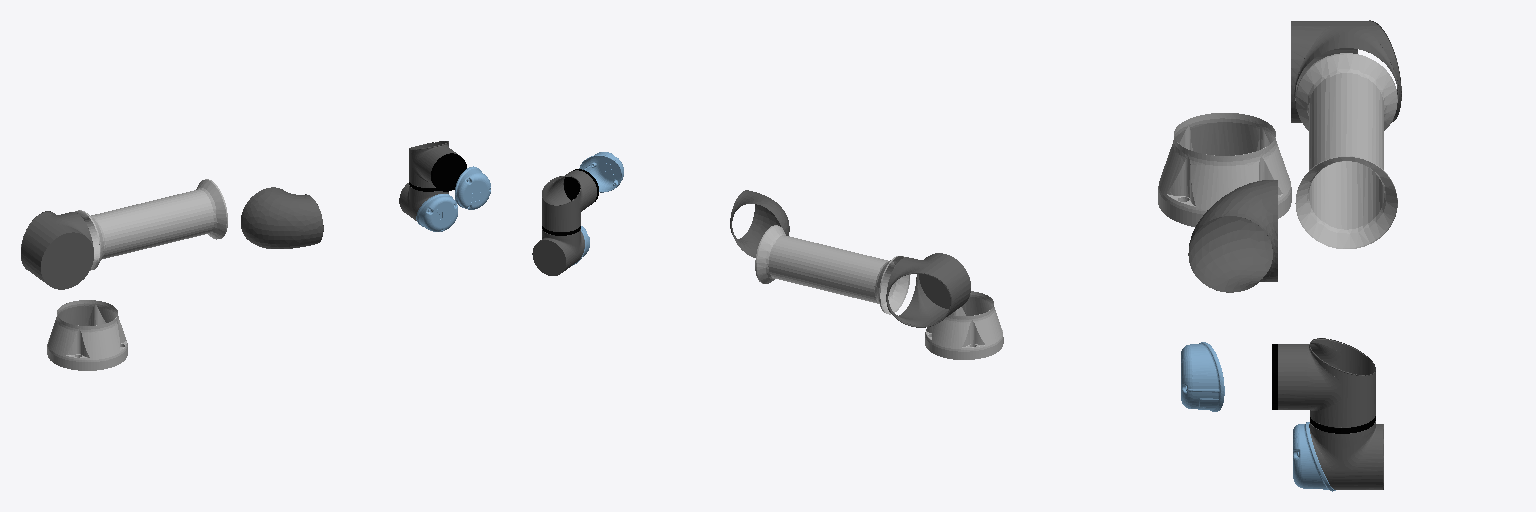
The robot description file, URDF, robot "ur5e_robot":
<?xml version="1.0" encoding="utf-8" ?>
<!-- =================================================================================== -->
<!-- |    This document was autogenerated by xacro from                                  -->
<!-- |    [local-path]/wrc_ws/src/ur_robotiq/ur5e_2f85/ur5e_2f85_description/urdf/ur5e_2f85_joint_limited_robot.urdf.xacro | -->
<!-- |    and updated by [author]                                                   -->
<!-- |    EDITING THIS FILE BY HAND IS NOT RECOMMENDED (...)                           | -->
<!-- =================================================================================== -->
<robot name="ur5e_robot" xmlns:xacro="http://wiki.ros.org/xacro">

    <link name="world" />

    <joint name="world_joint" type="fixed">
        <parent link="world" />
        <child link="base_link" />
        <origin rpy="0.0 0.0 0.0" xyz="0.0 0.0 0.0" />
    </joint>

    <link name="base_link">
        <visual>
            <geometry>
                <mesh filename="ur5e-link0_con.stl" />
            </geometry>
            <material name="con_color">
                <color rgba="0.0157 0.0157 0.0157 1.0" />
            </material>
        </visual>
        <visual>
            <geometry>
                <mesh filename="ur5e-link0_rod.stl" />
            </geometry>
            <material name="rod_color">
                <color rgba="0.7255 0.7255 0.7255 1.0" />
            </material>
        </visual>
        <collision>
            <geometry>
                <mesh filename="collision_base.stl" />
            </geometry>
        </collision>
        
        <inertial>
            <mass value="4.0" />
            <origin rpy="0 0 0" xyz="0.0 0.0 0.0" />
            <inertia ixx="0.00443333156" ixy="0.0" ixz="0.0" iyy="0.00443333156" iyz="0.0" izz="0.0072" />
        </inertial>
    </link>

    <!-- Joint 1: Base joint -->
    <joint name="ur5e_joint1" type="revolute">
        <parent link="base_link" />
        <child link="ur5e_link1" />
        <origin rpy="0.0 0.0 0.0" xyz="0.0 0.0 0.1625" />
        <axis xyz="0 0 1" />
        <limit effort="150.0" lower="-6.28318530718" upper="6.28318530718" velocity="3.14159265359" />
        <dynamics damping="0.0" friction="0.0" />
    </joint>

    <link name="ur5e_link1">
        <visual>
            <geometry>
                <mesh filename="ur5e-link1_cap.stl" />
            </geometry>
            <material name="cap_color">
                <color rgba="0.5529 0.7098 0.8353 1.0" />
            </material>
        </visual>
        <visual>
            <geometry>
                <mesh filename="ur5e-link1_con.stl" />
            </geometry>
            <material name="con_color">
                <color rgba="0.0157 0.0157 0.0157 1.0" />
            </material>
        </visual>
        <visual>
            <geometry>
                <mesh filename="ur5e-link1_joi.stl" />
            </geometry>
            <material name="joi_color">
                <color rgba="0.4078 0.4078 0.4078 1.0" />
            </material>
        </visual>
        <collision>
            <geometry>
                <mesh filename="collision_shoulder.stl" />
            </geometry>
        </collision>
        
        <inertial>
            <mass value="3.7" />
            <origin rpy="0 0 0" xyz="0.0 0.0 0.0" />
            <inertia ixx="0.010267495893" ixy="0.0" ixz="0.0" iyy="0.010267495893" iyz="0.0" izz="0.00666" />
        </inertial>
    </link>

    <!-- Joint 2: Shoulder joint -->
    <joint name="ur5e_joint2" type="revolute">
        <parent link="ur5e_link1" />
        <child link="ur5e_link2" />
        <origin rpy="0.0 1.57079632679 0.0" xyz="0.0 0.138 0.0" />
        <axis xyz="0 1 0" />
        <limit effort="150.0" lower="-6.28318530718" upper="6.28318530718" velocity="3.14159265359" />
        <dynamics damping="0.0" friction="0.0" />
    </joint>

    <link name="ur5e_link2">
        <visual> 
            <geometry>
                <mesh filename="ur5e-link2_cap1.stl" />
            </geometry>
            <material name="cap_color">
                <color rgba="0.5529 0.7098 0.8353 1.0" />
            </material>
        </visual>
        <visual>
            <geometry>
                <mesh filename="ur5e-link2_cap2.stl" />
            </geometry>
            <material name="cap_color">
                <color rgba="0.5529 0.7098 0.8353 1.0" />
            </material>
        </visual>
        <visual>
            <geometry>
                <mesh filename="ur5e-link2_con1.stl" />
            </geometry>
            <material name="con_color">
                <color rgba="0.0157 0.0157 0.0157 1.0" />
            </material>
        </visual>
        <visual>
            <geometry>
                <mesh filename="ur5e-link2_con2.stl" />
            </geometry>
            <material name="con_color">
                <color rgba="0.0157 0.0157 0.0157 1.0" />
            </material>
        </visual>
        <visual>
            <geometry>
                <mesh filename="ur5e-link2_con3.stl" />
            </geometry>
            <material name="con_color">
                <color rgba="0.0157 0.0157 0.0157 1.0" />
            </material>
        </visual>
        <visual>
            <geometry>
                <mesh filename="ur5e-link2_joi1.stl" />
            </geometry>
            <material name="joi_color">
                <color rgba="0.4078 0.4078 0.4078 1.0" />
            </material>
        </visual>
        <visual>
            <geometry>
                <mesh filename="ur5e-link2_joi2.stl" />
            </geometry>
            <material name="joi_color">
                <color rgba="0.4078 0.4078 0.4078 1.0" />
            </material>
        </visual>
        <visual>
            <geometry>
                <mesh filename="ur5e-link2_rod.stl" />
            </geometry>
            <material name="rod_color">
                <color rgba="0.7255 0.7255 0.7255 1.0" />
            </material>
        </visual>
        <collision>
            <geometry>
                <mesh filename="collision_upperarm.stl" />
            </geometry>
        </collision>
        
        <inertial>
            <mass value="8.393" />
            <origin rpy="0 0 0" xyz="0.0 0.0 0.2125" />
            <inertia ixx="0.133885781862" ixy="0.0" ixz="0.0" iyy="0.133885781862" iyz="0.0" izz="0.0151074" />
        </inertial>
    </link>

    <!-- Joint 3: Elbow joint -->
    <joint name="ur5e_joint3" type="revolute">
        <parent link="ur5e_link2" />
        <child link="ur5e_link3" />
        <origin rpy="0.0 0.0 0.0" xyz="0.0 -0.131 0.425" />
        <axis xyz="0 1 0" />
        <limit effort="150.0" lower="-6.28318530718" upper="6.28318530718" velocity="3.14159265359" />
        <dynamics damping="0.0" friction="0.0" />
    </joint>

    <link name="ur5e_link3">
        <visual>
            <geometry>
                <mesh filename="ur5e-link3_cap.stl" />
            </geometry>
            <material name="cap_color">
                <color rgba="0.5529 0.7098 0.8353 1.0" />
            </material>
        </visual>
        <visual>
            <geometry>
                <mesh filename="ur5e-link3_con1.stl" />
            </geometry>
            <material name="con_color">
                <color rgba="0.0157 0.0157 0.0157 1.0" />
            </material>
        </visual>
        <visual>
            <geometry>
                <mesh filename="ur5e-link3_con2.stl" />
            </geometry>
            <material name="con_color">
                <color rgba="0.0157 0.0157 0.0157 1.0" />
            </material>
        </visual>
        <visual>
            <geometry>
                <mesh filename="ur5e-link3_con3.stl" />
            </geometry>
            <material name="con_color">
                <color rgba="0.0157 0.0157 0.0157 1.0" />
            </material>
        </visual>
        <visual>
            <geometry>
                <mesh filename="ur5e-link3_joi1.stl" />
            </geometry>
            <material name="joi_color">
                <color rgba="0.4078 0.4078 0.4078 1.0" />
            </material>
        </visual>
        <visual>
            <geometry>
                <mesh filename="ur5e-link3_joi2.stl" />
            </geometry>
            <material name="joi_color">
                <color rgba="0.4078 0.4078 0.4078 1.0" />
            </material>
        </visual>
        <visual>
            <geometry>
                <mesh filename="ur5e-link3_rod.stl" />
            </geometry>
            <material name="rod_color">
                <color rgba="0.7255 0.7255 0.7255 1.0" />
            </material>
        </visual>
        <collision>
            <geometry>
                <mesh filename="collision_forearm.stl" />
            </geometry>
        </collision>
        
        <inertial>
            <mass value="2.275" />
            <origin rpy="0 0 0" xyz="0.0 0.0 0.196" />
            <inertia ixx="0.0311796208615" ixy="0.0" ixz="0.0" iyy="0.0311796208615" iyz="0.0" izz="0.004095" />
        </inertial>
    </link>

    <!-- Joint 4: Wrist 1 joint -->
    <joint name="ur5e_joint4" type="revolute">
        <parent link="ur5e_link3" />
        <child link="ur5e_link4" />
        <origin rpy="0.0 1.57079632679 0.0" xyz="0.0 0.0 0.392" />
        <axis xyz="0 1 0" />
        <limit effort="28.0" lower="-6.28318530718" upper="6.28318530718" velocity="6.28" />
        <dynamics damping="0.0" friction="0.0" />
    </joint>

    <link name="ur5e_link4">
        <visual>
            <geometry>
                <mesh filename="ur5e-link4_cap.stl" />
            </geometry>
            <material name="cap_color">
                <color rgba="0.5529 0.7098 0.8353 1.0" />
            </material>
        </visual>
        <visual>
            <geometry>
                <mesh filename="ur5e-link4_con.stl" />
            </geometry>
            <material name="con_color">
                <color rgba="0.0157 0.0157 0.0157 1.0" />
            </material>
        </visual>
        <visual>
            <geometry>
                <mesh filename="ur5e-link4_joi.stl" />
            </geometry>
            <material name="joi_color">
                <color rgba="0.4078 0.4078 0.4078 1.0" />
            </material>
        </visual>
        <collision>
            <geometry>
                <mesh filename="collision_wrist1.stl" />
            </geometry>
        </collision>
        
        <inertial>
            <mass value="1.219" />
            <origin rpy="0 0 0" xyz="0.0 0.127 0.0" />
            <inertia ixx="0.00255989897604" ixy="0.0" ixz="0.0" iyy="0.00255989897604" iyz="0.0" izz="0.0021942" />
        </inertial>
    </link>

    <!-- Joint 5: Wrist 2 joint -->
    <joint name="ur5e_joint5" type="revolute">
        <parent link="ur5e_link4" />
        <child link="ur5e_link5" />
        <origin rpy="0.0 0.0 0.0" xyz="0.0 0.127 0.0" />
        <axis xyz="0 0 1" />
        <limit effort="28.0" lower="-6.28318530718" upper="6.28318530718" velocity="6.28" />
        <dynamics damping="0.0" friction="0.0" />
    </joint>

    <link name="ur5e_link5">
        <visual>
            <geometry>
                <mesh filename="ur5e-link5_cap.stl" />
            </geometry>
            <material name="cap_color">
                <color rgba="0.5529 0.7098 0.8353 1.0" />
            </material>
        </visual>
        <visual>
            <geometry>
                <mesh filename="ur5e-link5_con.stl" />
            </geometry>
            <material name="con_color">
                <color rgba="0.0157 0.0157 0.0157 1.0" />
            </material>
        </visual>
        <visual>
            <geometry>
                <mesh filename="ur5e-link5_joi.stl" />
            </geometry>
            <material name="joi_color">
                <color rgba="0.4078 0.4078 0.4078 1.0" />
            </material>
        </visual>
        <collision>
            <geometry>
                <mesh filename="collision_wrist2.stl" />
            </geometry>
        </collision>
        
        <inertial>
            <mass value="1.219" />
            <origin rpy="0 0 0" xyz="0.0 0.0 0.1" />
            <inertia ixx="0.00255989897604" ixy="0.0" ixz="0.0" iyy="0.00255989897604" iyz="0.0" izz="0.0021942" />
        </inertial>
    </link>

    <!-- JOINT 6: Wrist 3 joint -->
    <joint name="ur5e_joint6" type="revolute">
        <parent link="ur5e_link5" />
        <child link="ur5e_link6" />
        <origin rpy="0.0 0.0 0.0" xyz="0.0 0.0 0.1" />
        <axis xyz="0 1 0" />
        <limit effort="28.0" lower="-6.28318530718" upper="6.28318530718" velocity="6.28" />
        <dynamics damping="0.0" friction="0.0" />
    </joint>

    <link name="ur5e_link6">
        <visual>
            <geometry>
                <mesh filename="ur5e-link6_rod.stl" />
            </geometry>
            <material name="rod_color">
                <color rgba="0.7255 0.7255 0.7255 1.0" />
            </material>
        </visual>
        <collision>
            <geometry>
                <mesh filename="collision_wrist3.stl" />
            </geometry>
        </collision>
        
        <inertial>
            <mass value="0.1879" />
            <origin rpy="1.57079632679 0 0" xyz="0.0 0.0771 0.0" />
            <inertia ixx="9.89041005217e-05" ixy="0.0" ixz="0.0" iyy="9.89041005217e-05" iyz="0.0" izz="0.0001321171875" />
        </inertial>
    </link>

    <!-- TCP JOINT -->
    <joint name="TCP_fixed_joint" type="fixed">
        <parent link="ur5e_link6" />
        <child link="ur5e_tcp" />
        <origin rpy="0.0 0.0 1.57079632679" xyz="0.0 0.1 0.0" />
    </joint>

    <link name="ur5e_tcp">
        <collision>
            <geometry>
                <box size="0.01 0.01 0.01" />
            </geometry>
            <origin rpy="0 0 0" xyz="-0.01 0 0" />
        </collision>
        
        <inertial>
            <mass value="0.1" />
            <inertia ixx="0.03" iyy="0.03" izz="0.03" ixy="0.0" ixz="0.0" iyz="0.0" />
        </inertial>
    </link>

    <mujoco>
            <compiler 
            meshdir="[local-path]/Projekte/Studium/Master/Masterarbeit_SS2024/2DOF_Manipulator/MA24_simulink/stl_files/Meshes_ur5e" 
            balanceinertia="true" 
            discardvisual="false"
            discardcollision="true"
            />
    </mujoco>
</robot>

--- Render facts (derived) ---
The picture shows the robot from 3 angles, left to right: view 1: azimuth 30°, elevation 25°; view 2: azimuth 150°, elevation 25°; view 3: azimuth 270°, elevation 25°; orthographic projection.
Robot: ur5e_robot — 9 links, 8 joints (6 revolute, 2 fixed); root link world; default pose: every joint at zero.
Visible links, largest first — view 1: ur5e_link2, ur5e_link3, base_link, ur5e_link5, ur5e_link4; view 2: ur5e_link2, base_link, ur5e_link3, ur5e_link4, ur5e_link5; view 3: ur5e_link2, ur5e_link3, base_link, ur5e_link4, ur5e_link5.
Link boxes in pixels (x1,y1,x2,y2): ur5e_link2: [21, 179, 227, 289]; ur5e_link3: [241, 153, 490, 248]; base_link: [47, 300, 127, 370]; ur5e_link5: [399, 183, 457, 231]; ur5e_link4: [409, 141, 459, 191]; ur5e_link2: [755, 225, 970, 327]; base_link: [925, 291, 1003, 359]; ur5e_link3: [564, 152, 789, 257]; ur5e_link4: [542, 170, 596, 235]; ur5e_link5: [532, 226, 589, 275]; ur5e_link2: [1291, 20, 1401, 248]; ur5e_link3: [1181, 180, 1277, 411]; base_link: [1158, 113, 1291, 226]; ur5e_link4: [1278, 338, 1375, 433]; ur5e_link5: [1293, 421, 1383, 491].
Size in the robot's own frame: 0.9318 by 0.2758 by 0.2208 metres.
Meshes: 27 distinct files referenced, 10 mesh visuals loaded (10 binary STL); not drawn: 17 (reference not matched to a file when rendering).